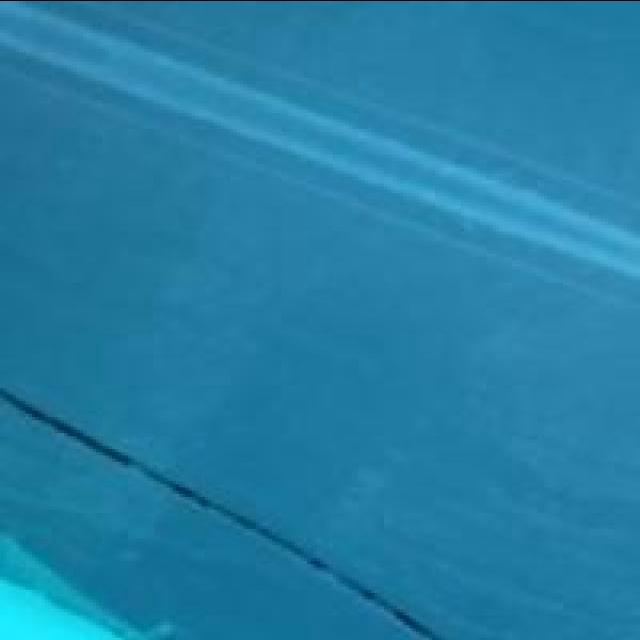SurfaceCrack: (2, 360, 472, 640)
